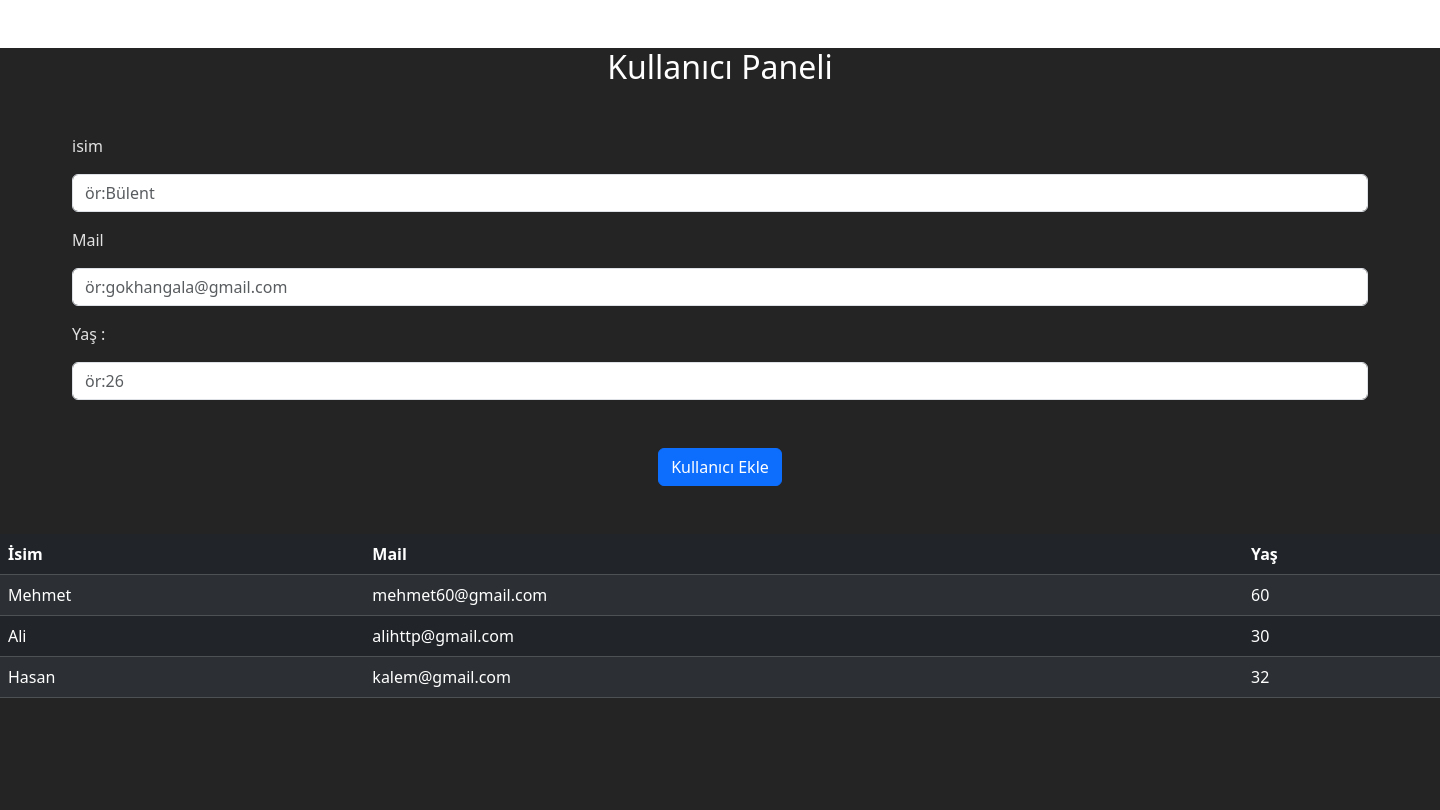
Uygulama dogru şekilde çalışıyormmu
inputları doldur
Type "Kenan" into the field labelled "isim" at (720, 193), box [72,174,1368,212]
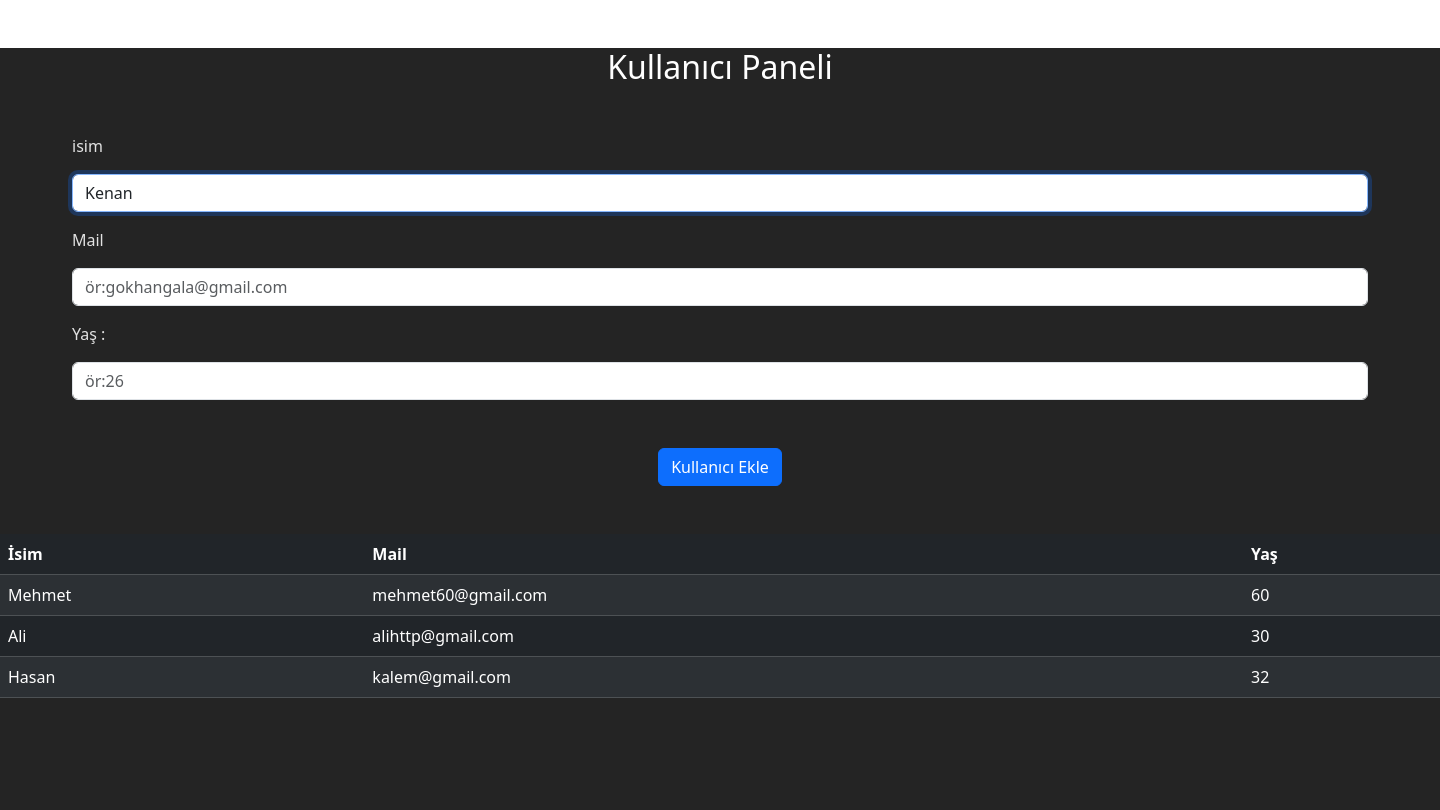
Type "34" into the number field with placeholder "ör:26" at (720, 381), box [72,362,1368,400]
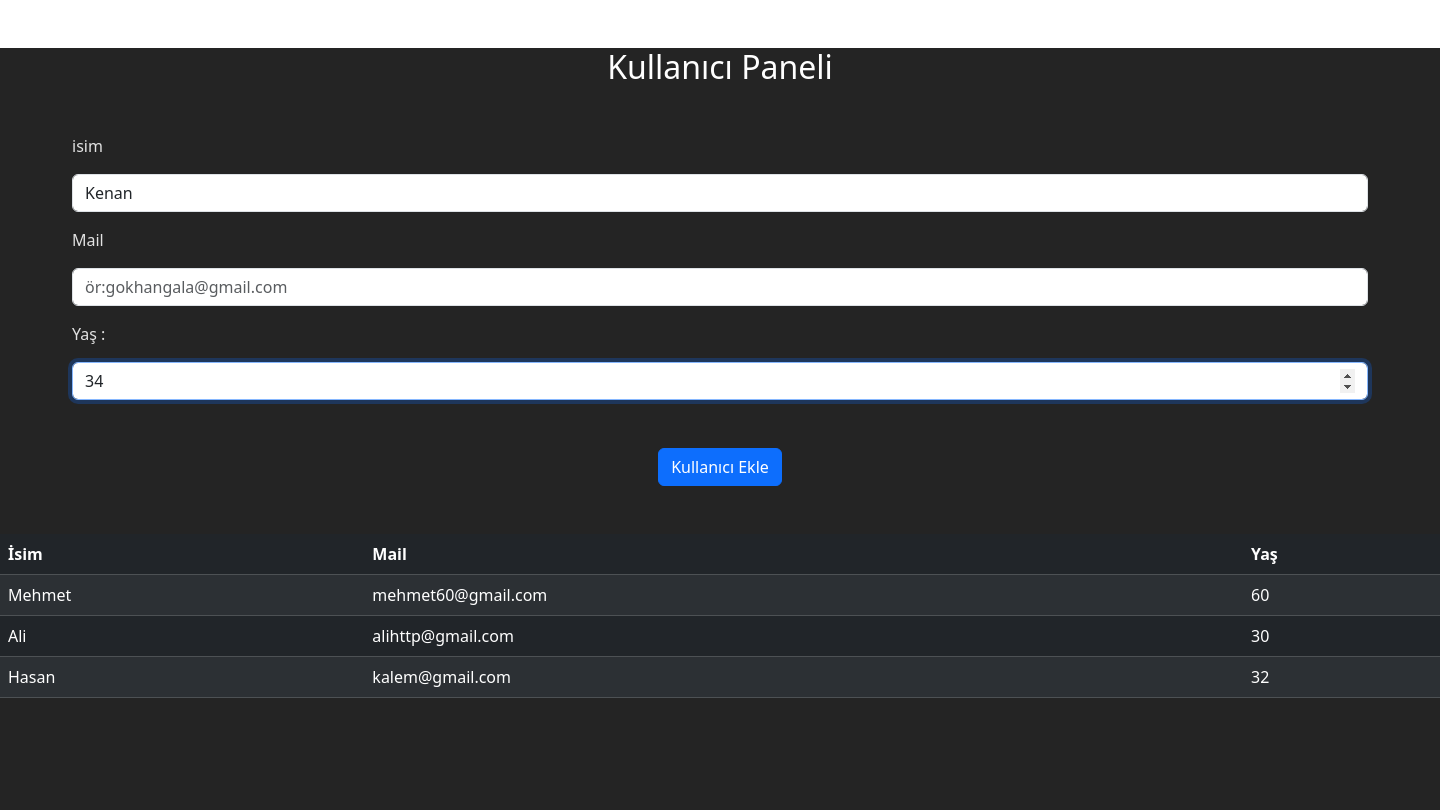
Type "hkena52@gmail.com" into the field labelled "Mail" at (720, 287), box [72,268,1368,306]
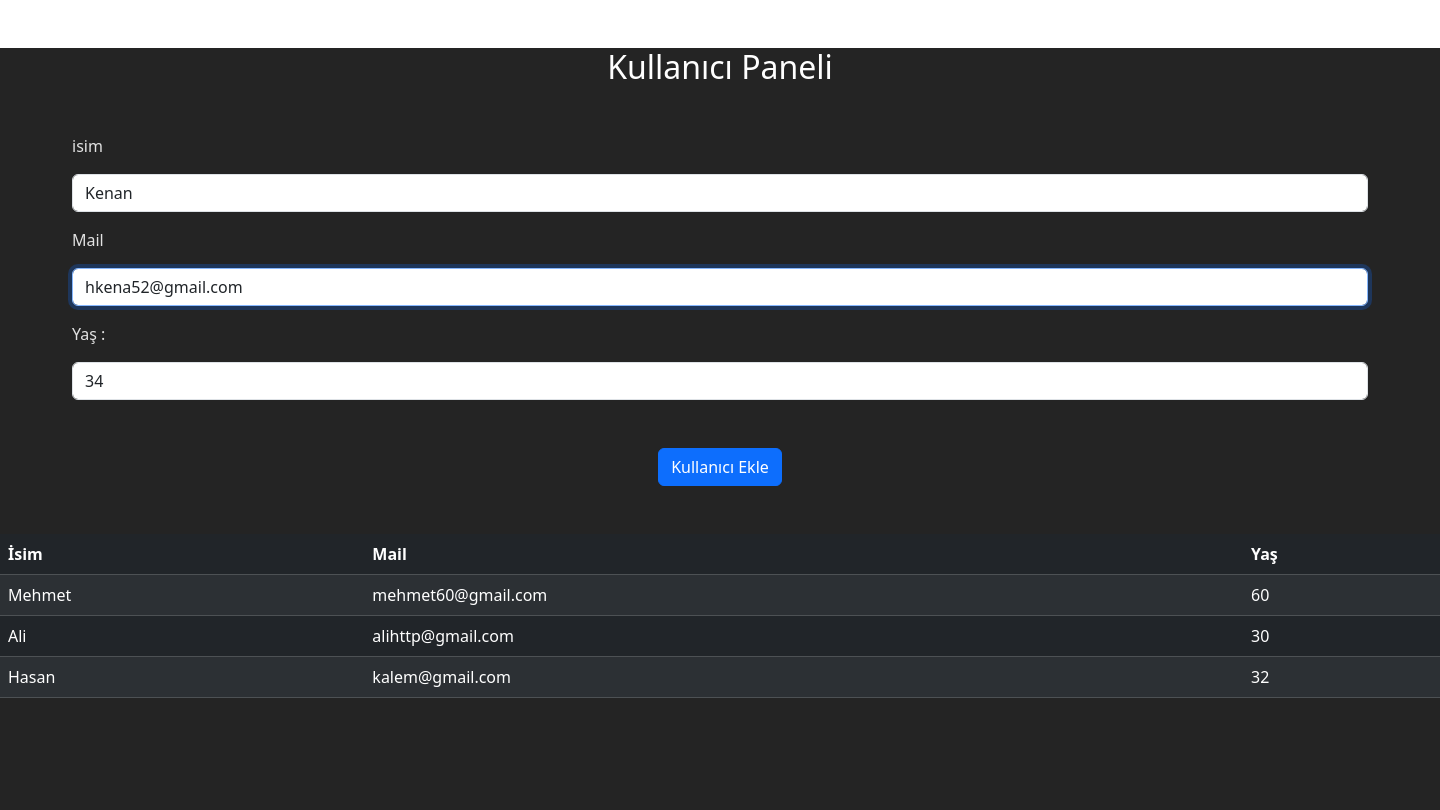
kullanıcı ekle butonuna tıkla
Click the button "Kullanıcı Ekle" at (720, 467), box [658,448,782,486]
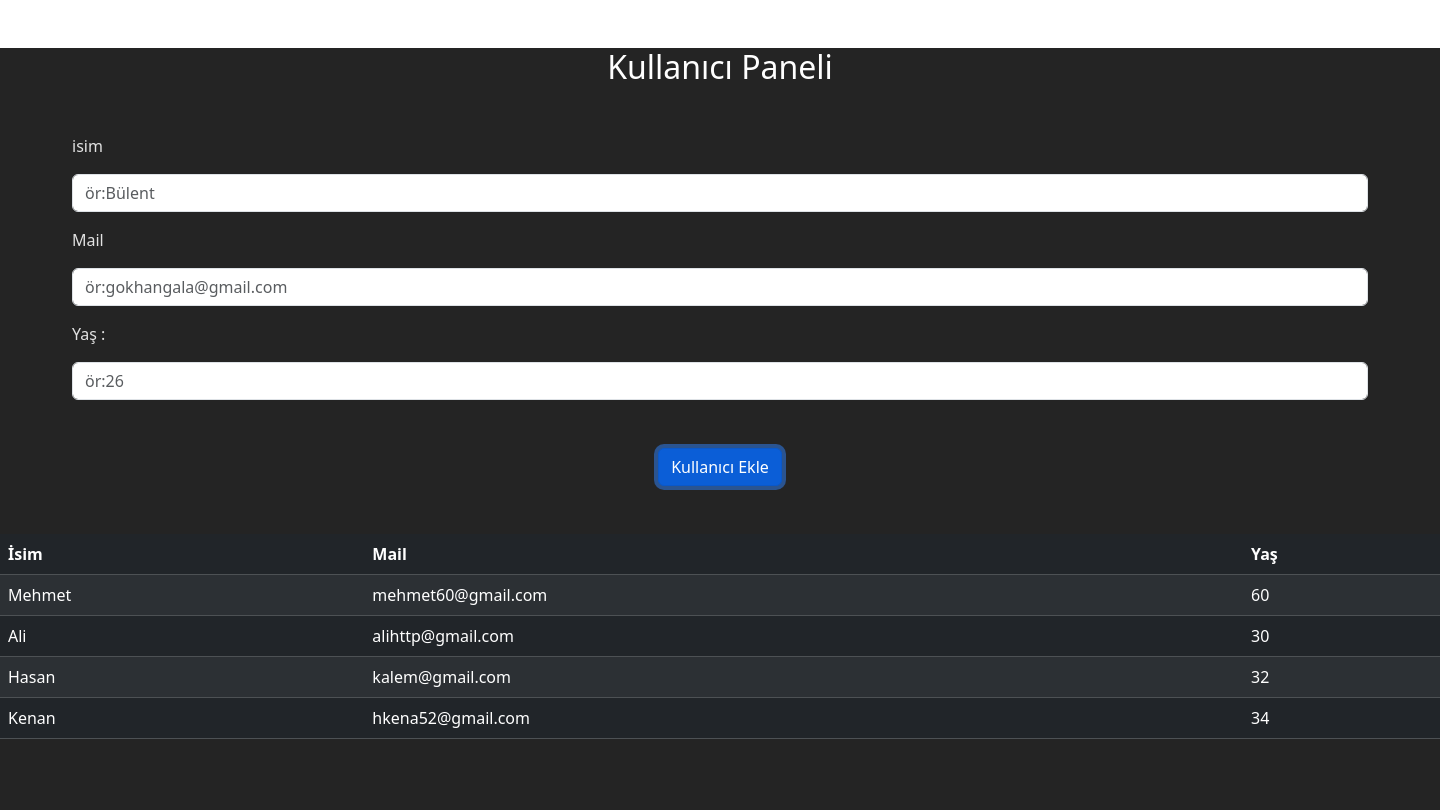
Expected: the cell "Kenan" is shown, [0,698,364,739]
Expected: the cell "hkena52@gmail.com" is shown, [364,698,1243,739]
Expected: the cell "34" is shown, [1243,698,1439,739]
